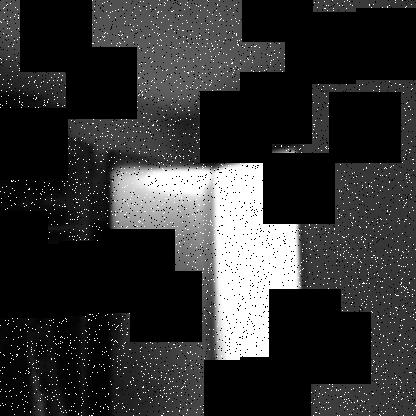Porte: (98, 137, 317, 415)
